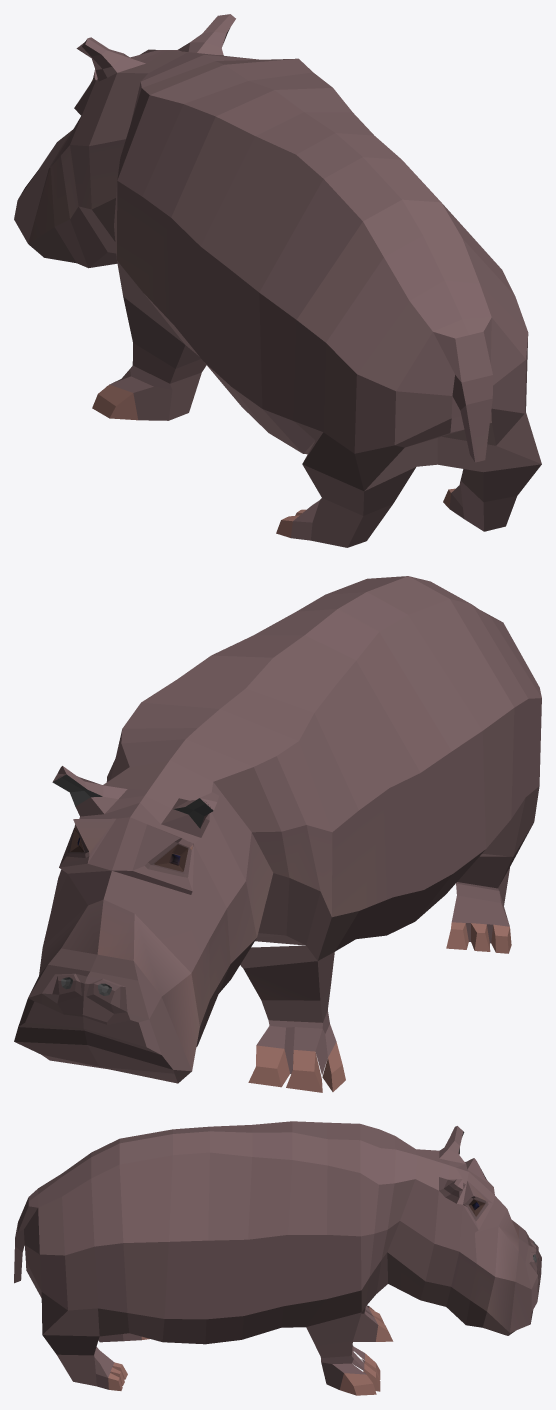
Rendered from Extra_Hippo.glb.
3 renders of one model, top to bottom at view 1: azimuth 30°, elevation 25°; view 2: azimuth 150°, elevation 25°; view 3: azimuth 270°, elevation 25°, orthographic. The views are drawn at different scales.
Visible parts, largest first — view 1: hippo_2; view 2: hippo_2; view 3: hippo_2.
Part boxes in pixels (<box>): hippo_2: <box>14,14,541,547</box>; hippo_2: <box>14,576,541,1092</box>; hippo_2: <box>14,1121,541,1395</box>.
Bounding box in the file's own units: 0.9391 × 1.31 × 2.76.
